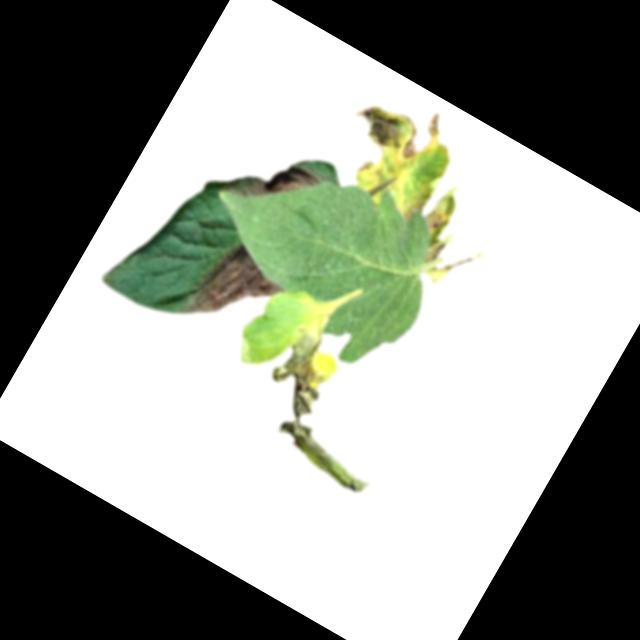Late_blight: (240, 318, 426, 498), (177, 233, 290, 352), (239, 145, 323, 231), (344, 93, 430, 168), (413, 110, 466, 167), (420, 180, 467, 238), (400, 167, 444, 226), (355, 157, 374, 178)
healthy: (177, 121, 464, 384)
